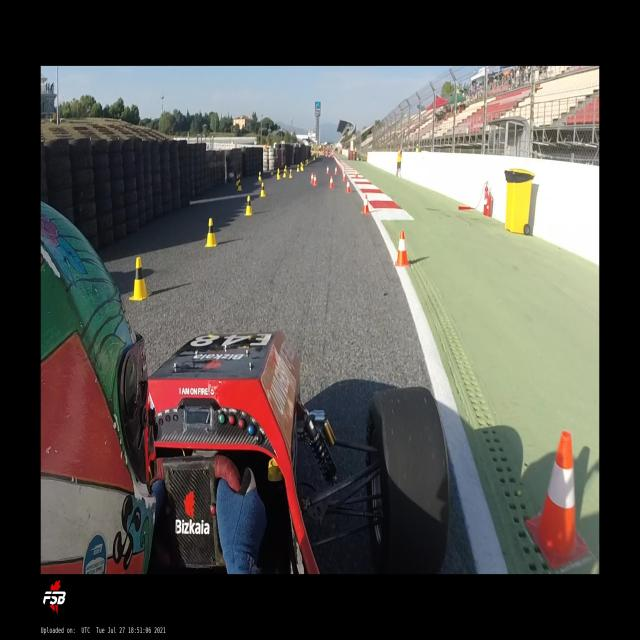orange_cone: (525, 430, 589, 568), (395, 230, 410, 267), (360, 194, 370, 214), (345, 179, 351, 193), (328, 175, 334, 188), (313, 173, 317, 186), (342, 171, 346, 181), (310, 172, 314, 182), (354, 169, 358, 178), (326, 166, 329, 173), (335, 166, 337, 175)
yellow_cone: (129, 257, 152, 301), (205, 218, 218, 246), (244, 196, 253, 216), (260, 181, 266, 197), (238, 179, 242, 191), (258, 171, 262, 182), (289, 168, 293, 178), (282, 168, 286, 178), (276, 170, 280, 180), (236, 175, 238, 185), (297, 163, 299, 172), (276, 168, 278, 175), (302, 164, 304, 171)
